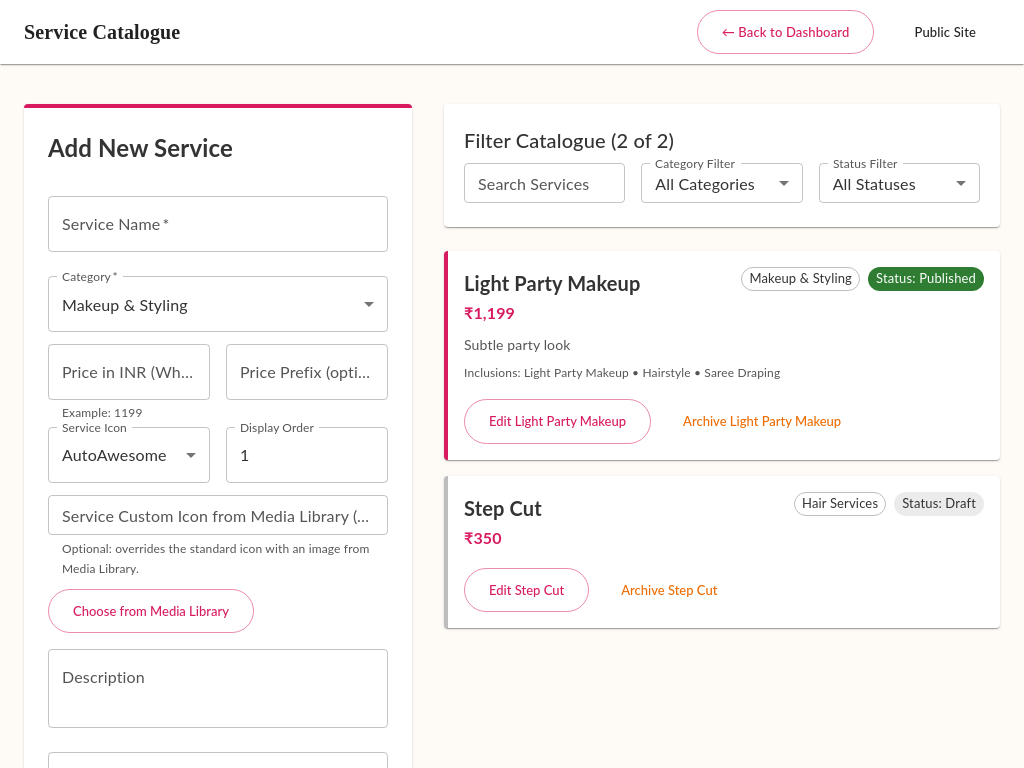
Ticket 3 — Admin Service Catalogue CRUD (/admin/services) › renders service list, filters by search query, and shows empty state when no service matches
Expected: the heading "Light Party Makeup" is shown, [464,267,640,299]
Expected: the heading "Step Cut" is shown, [464,492,542,524]
Type "NonExistentServiceXYZ" into the field labelled "Search Services" at point(545, 183), box [464,163,625,203]
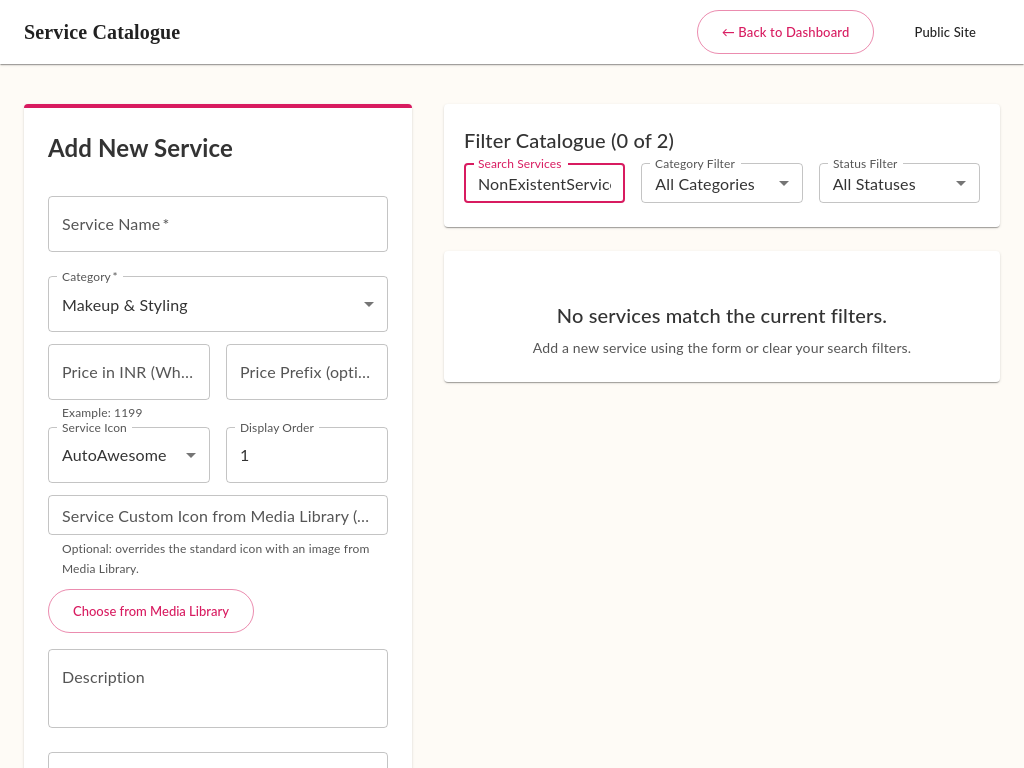
Now the heading "No services match the current filters." is shown, box [557,303,887,327]
